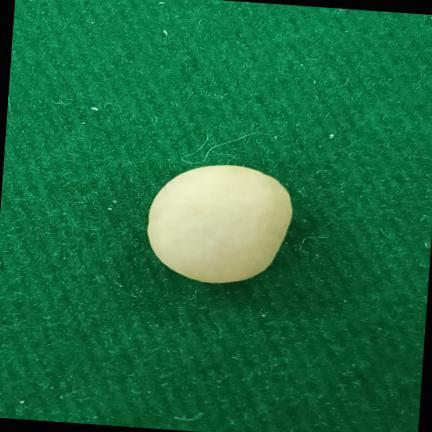parchment: (147, 165, 292, 283)
